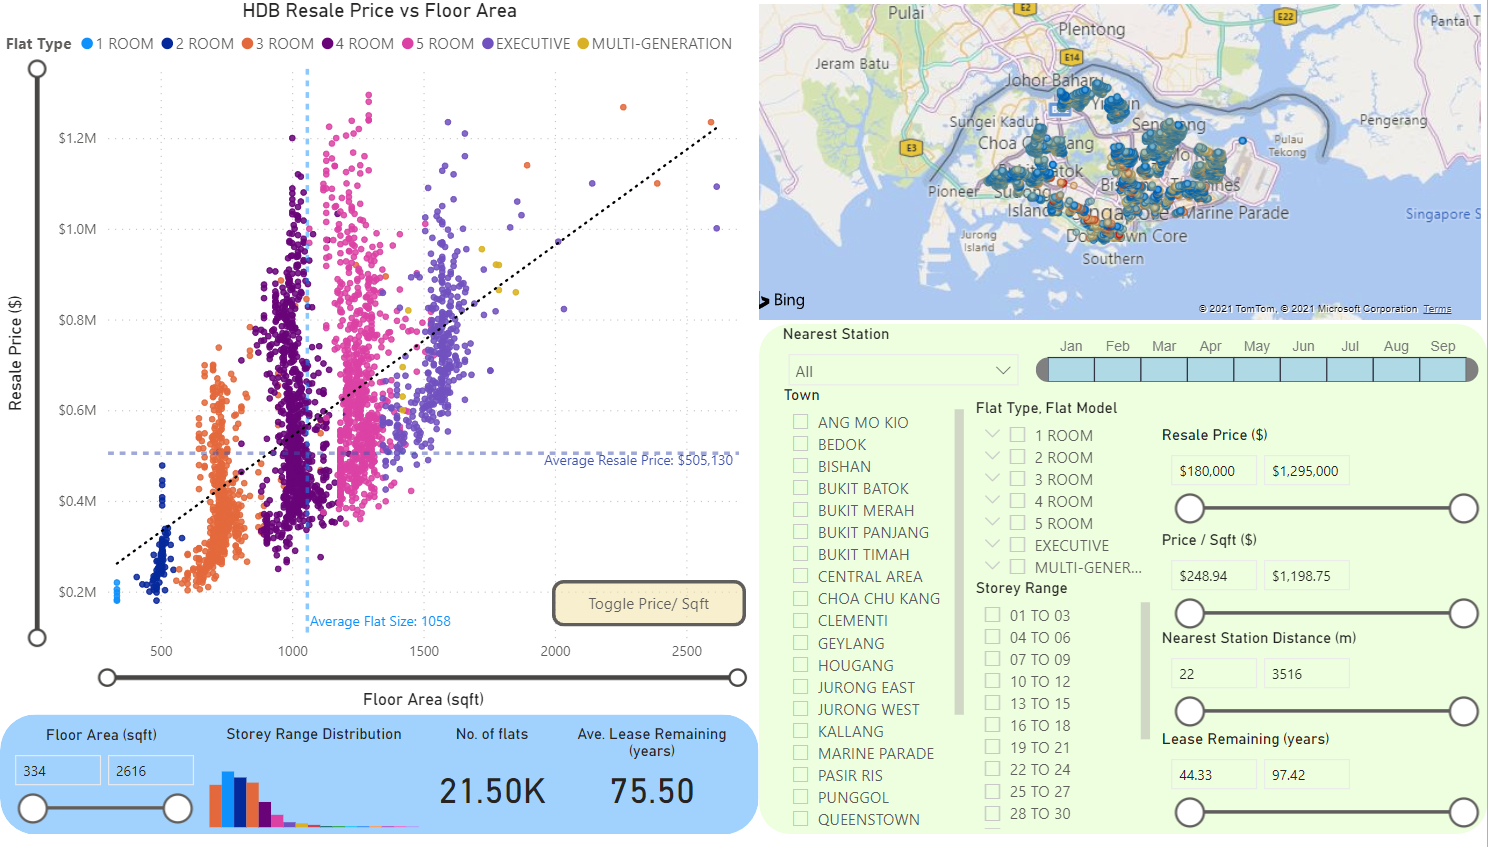

This screenshot's page, from the dashboard's own definition file:
{"tool":"powerbi","page":{"name":"Data Explorer","canvas":[1280,720],"ordinal":0},"visuals":[{"type":"shape","box":[653.3,280.9,626.7,439.1],"z":0},{"type":"shape","box":[0,616.6,653.2,103.9],"z":1000},{"type":"map","fields":{"Y":["HDB Resale Details.Latitude"],"X":["HDB Resale Details.Longitude"]},"box":[640.3,0,639.3,282.1],"z":2000},{"type":"Timeline1447991079100","fields":{"Time":["Table.Date"]},"box":[654.2,281.1,625.5,79.2],"z":3000},{"type":"slicer","title":"Flat Type, Flat Model","fields":{"Values":["HDB Resale Details.Flat Type","HDB Resale Details.Flat Model"]},"box":[834.7,344.9,160,163.6],"z":4000},{"type":"slicer","title":"Town","fields":{"Values":["HDB Resale Details.Town"]},"box":[669,344.4,165.3,299.9],"z":5000},{"type":"slicer","title":"Storey Range","fields":{"Values":["HDB Resale Details.Storey Range"]},"box":[834.3,500.8,160.3,143.5],"z":6000},{"type":"slicer","title":"Floor Area (sqft)","fields":{"Values":["HDB Resale Details.Floor Area (sqft)"]},"box":[0,626.7,174.2,94.2],"z":7000},{"type":"slicer","title":"Lease Remaining (years)","fields":{"Values":["HDB Resale Details.Lease Remaining (years)"]},"box":[994.7,630.2,285.3,89.8],"z":8000},{"type":"slicer","title":"Resale Price ($)","fields":{"Values":["HDB Resale Details.Resale Price ($)"]},"box":[994.7,368,285.3,99.6],"z":9000},{"type":"card","title":"Ave. Lease Remaining (years)","fields":{"Values":["Avg(HDB Resale Details.Lease Remaining (years))"]},"box":[480.9,625.8,160,79.1],"z":10000},{"type":"lineClusteredColumnComboChart","title":"Storey Range Distribution","fields":{"Y":["CountNonNull(HDB Resale Details.Storey Range)"],"Series":["HDB Resale Details.Storey Range"]},"box":[174.2,625.8,192.9,94.2],"z":11000},{"type":"slicer","title":"Price / Sqft ($)","fields":{"Values":["HDB Resale Details.Price / Sqft"]},"box":[994.7,458.7,285.3,99.6],"z":12000},{"type":"slicer","title":"Nearest Station Distance (m)","fields":{"Values":["HDB Resale Details.Station Distance"]},"box":[994.7,543.1,285.3,94.2],"z":13000},{"type":"scatterChart","title":"HDB Resale Price vs Floor Area","fields":{"Y":["Avg(HDB Resale Details.resale_price)"],"Series":["HDB Resale Details.Flat Type"],"X":["Avg(HDB Resale Details.Floor Area (sqft))"]},"box":[0,0,653.7,617.1],"z":14000},{"type":"card","title":"No. of flats","fields":{"Values":["CountNonNull(HDB Resale Details.Resale Price ($))"]},"box":[367.1,625.8,113.8,94.2],"z":16000},{"type":"slicer","title":"Nearest Station","fields":{"Values":["MRT Stations.Station Type","MRT Stations.Station Name"]},"box":[669,657.2,325.6,63.3],"z":17000},{"type":"actionButton","box":[475,500.6,166.9,40],"z":18000}]}

Visuals, with their boxes in screenshot pixels (x1, y1, x2, y2), scaled from the page's 1280x720 canvas onto the 1488x847 screenshot:
shape: <region>759, 330, 1487, 846</region>
shape: <region>0, 725, 759, 846</region>
map - HDB Resale Details.Latitude x HDB Resale Details.Longitude: <region>744, 0, 1487, 332</region>
Timeline1447991079100 - Table.Date: <region>761, 331, 1487, 424</region>
"Flat Type, Flat Model" slicer: <region>970, 406, 1156, 598</region>
"Town" slicer: <region>778, 405, 970, 758</region>
"Storey Range" slicer: <region>970, 589, 1156, 758</region>
"Floor Area (sqft)" slicer: <region>0, 737, 203, 846</region>
"Lease Remaining (years)" slicer: <region>1156, 741, 1487, 846</region>
"Resale Price ($)" slicer: <region>1156, 433, 1487, 550</region>
"Ave. Lease Remaining (years)" card: <region>559, 736, 745, 829</region>
"Storey Range Distribution" lineClusteredColumnComboChart: <region>203, 736, 427, 846</region>
"Price / Sqft ($)" slicer: <region>1156, 540, 1487, 657</region>
"Nearest Station Distance (m)" slicer: <region>1156, 639, 1487, 750</region>
"HDB Resale Price vs Floor Area" scatterChart: <region>0, 0, 760, 726</region>
"No. of flats" card: <region>427, 736, 559, 846</region>
"Nearest Station" slicer: <region>778, 773, 1156, 846</region>
actionButton: <region>552, 589, 746, 636</region>
